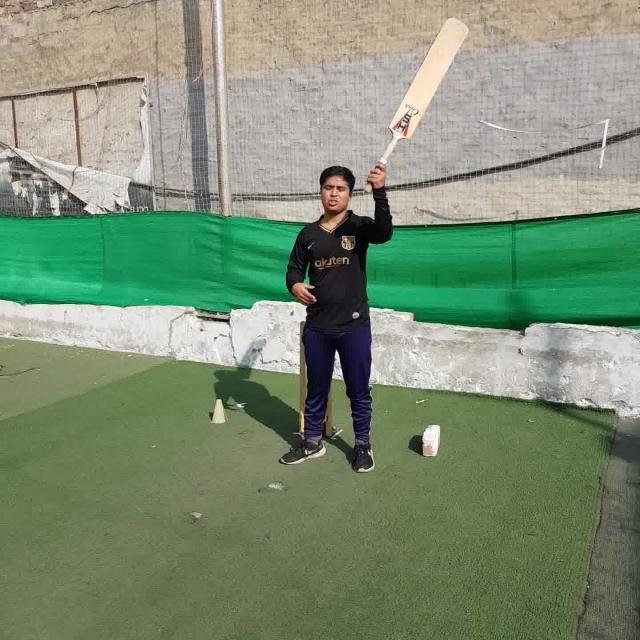bat: (364, 17, 470, 193)
